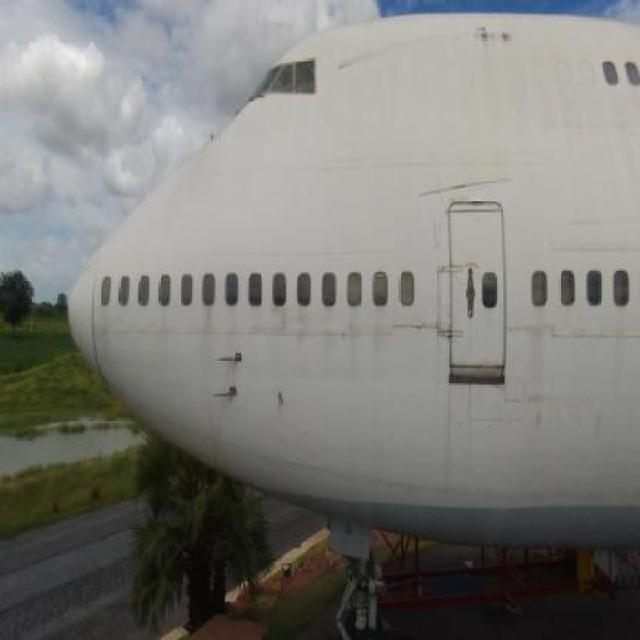Missing-Rivet: (434, 254, 458, 351)
Scartch: (414, 163, 518, 202), (329, 35, 416, 77), (458, 16, 530, 55), (386, 315, 436, 342)
